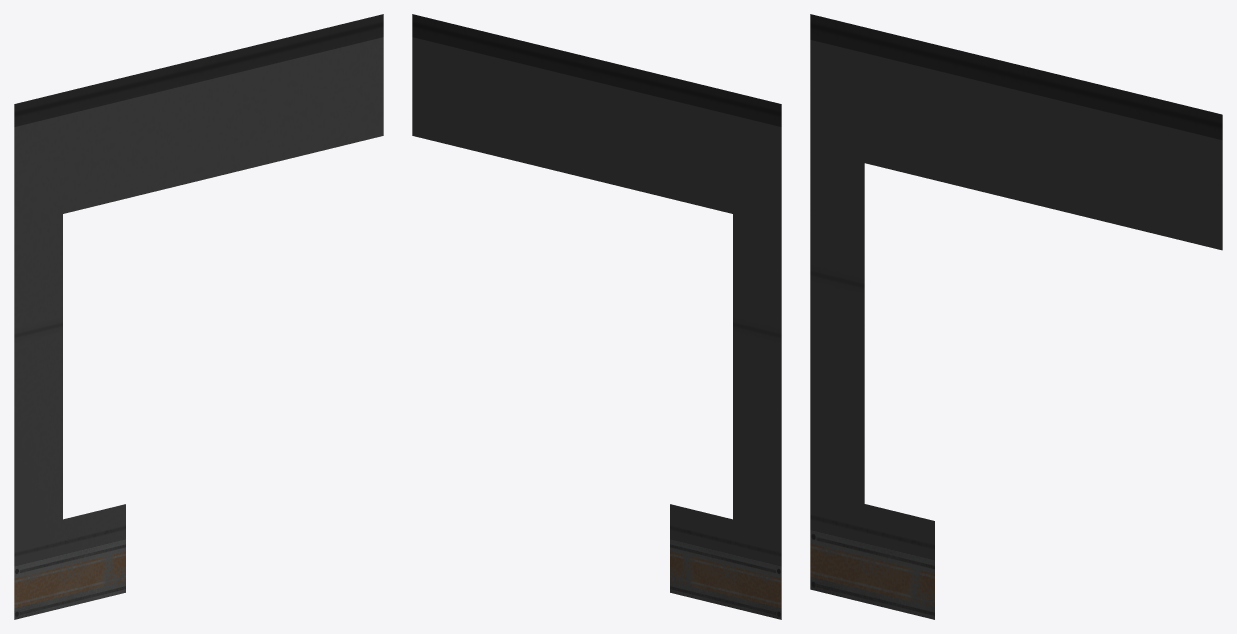
The model's file is WallVariation2.fbx.
3 views of the same model, side by side, from view 1: azimuth 30°, elevation 25°; view 2: azimuth 150°, elevation 25°; view 3: azimuth 330°, elevation 25° (orthographic). The views are drawn at different scales.
Visible parts, largest first — view 1: WallVariation4; view 2: WallVariation4; view 3: WallVariation4.
Part boxes in pixels (left/top/right/bottom): WallVariation4: left=14, top=14, right=383, bottom=619; WallVariation4: left=412, top=14, right=781, bottom=619; WallVariation4: left=810, top=14, right=1222, bottom=619.
Size of the model in its own units: 300 by 400 by 3.02e-05.
